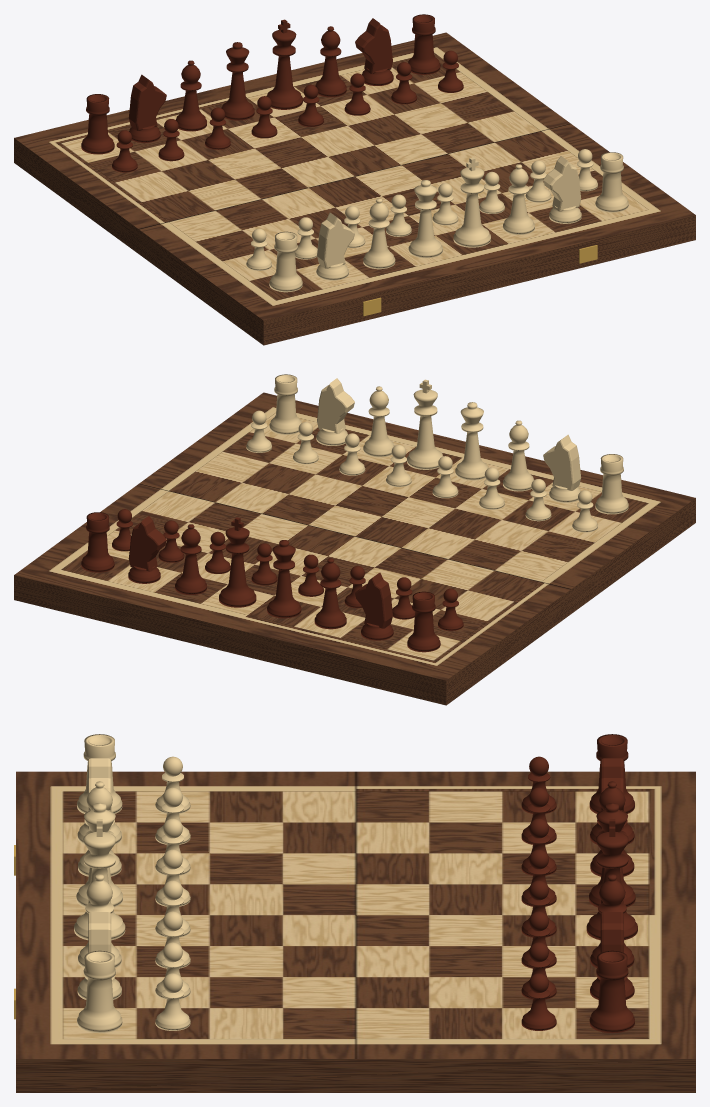
The model's file is philidor-3d-noyer-pliable-39.glb.
3 views of the same model, one above another, from view 1: azimuth 30°, elevation 25°; view 2: azimuth 150°, elevation 25°; view 3: azimuth 270°, elevation 25° (orthographic). The views are drawn at different scales.
Parts seen in each view (by area): view 1: noyer-pliable-39; view 2: noyer-pliable-39; view 3: noyer-pliable-39.
Part boxes in pixels (x1=…): noyer-pliable-39: x1=14, y1=14, x2=695, y2=345; noyer-pliable-39: x1=14, y1=374, x2=695, y2=705; noyer-pliable-39: x1=14, y1=734, x2=695, y2=1092.
Size of what is drawn, in the model's own units: 0.39 by 0.0914 by 0.3912.
Materials: 5 (2 with a texture image).
